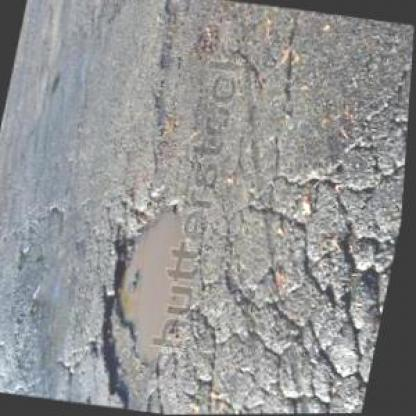pothole: (80, 178, 216, 411), (0, 299, 1, 361)
